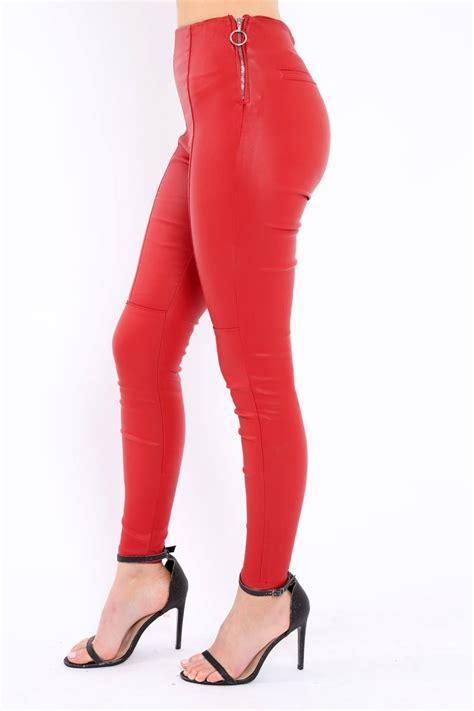pants: (113, 14, 330, 595)
